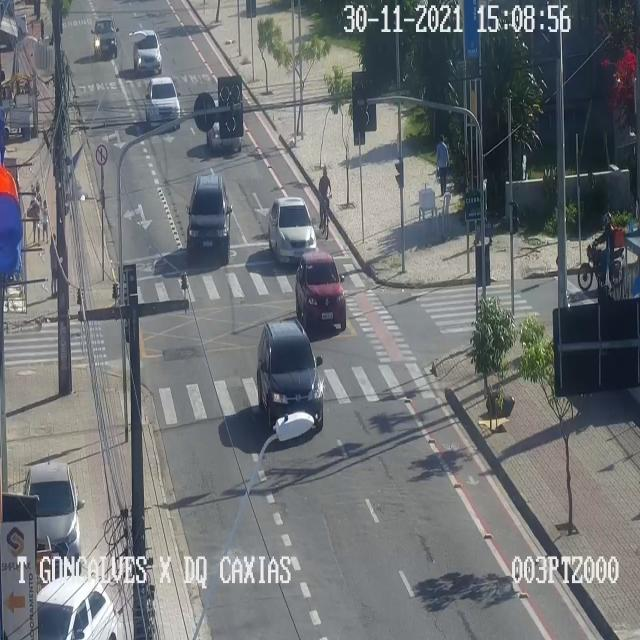Car: (256, 321, 322, 428), (24, 463, 80, 573), (36, 575, 116, 639), (295, 252, 345, 328), (188, 174, 229, 263), (268, 197, 316, 263), (145, 76, 180, 128), (207, 100, 241, 151), (133, 29, 161, 72), (93, 18, 117, 57)
Motorcycle: (577, 210, 623, 290)
